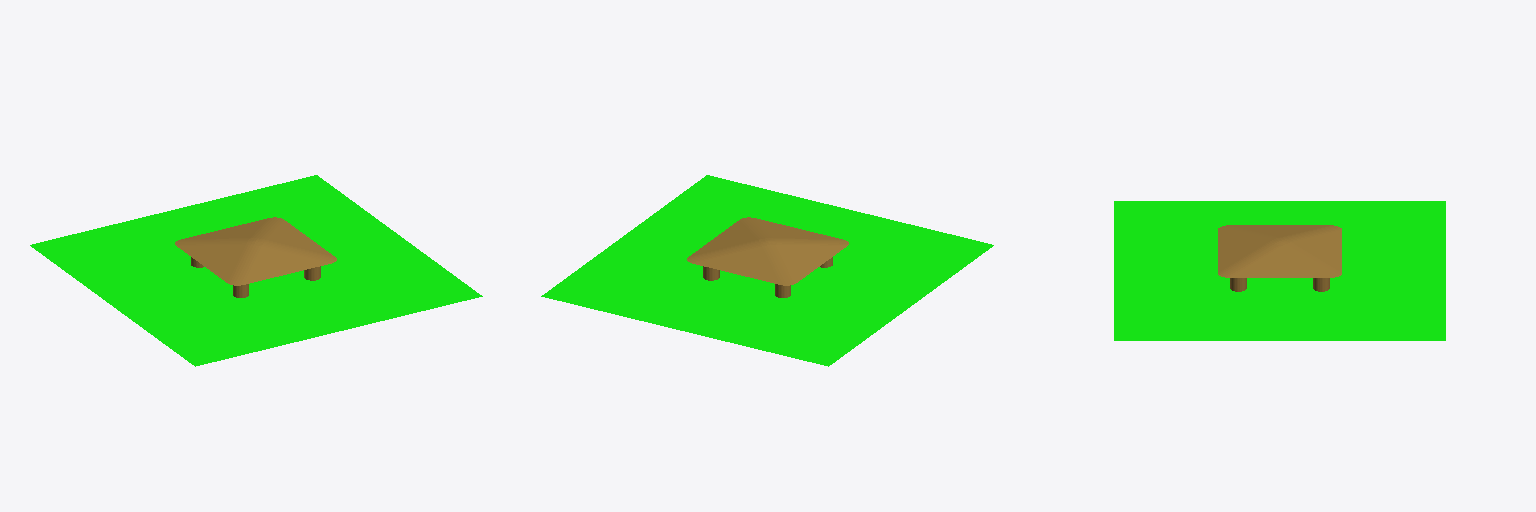
The model's file is shelter.obj.
The picture shows the model from 3 angles: view 1: azimuth 30°, elevation 25°; view 2: azimuth 150°, elevation 25°; view 3: azimuth 270°, elevation 25°; orthographic projection.
Size of the model in its own units: 40 by 3.93 by 40.